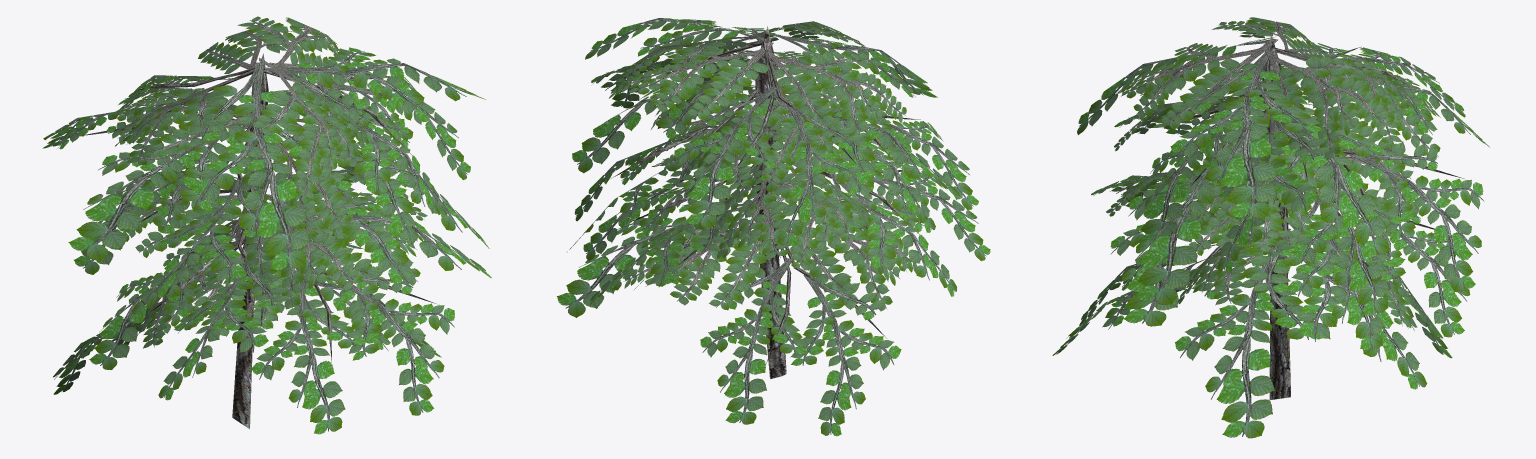
Rendered from Bush_02_v02.obj.
The picture shows the model from 3 angles, left to right: view 1: azimuth 30°, elevation 25°; view 2: azimuth 150°, elevation 25°; view 3: azimuth 270°, elevation 25°; orthographic projection. The views are drawn at different scales.
Visible parts, largest first — view 1: Bush_02_v01:polySurface34; view 2: Bush_02_v01:polySurface34; view 3: Bush_02_v01:polySurface34.
Boxes of the visible parts, bbox=[...] form: Bush_02_v01:polySurface34: bbox=[42, 16, 491, 434]; Bush_02_v01:polySurface34: bbox=[557, 18, 990, 436]; Bush_02_v01:polySurface34: bbox=[1052, 17, 1489, 438].
Bounding box in the file's own units: 41.44 × 34.41 × 40.46.
Materials: 1 (1 with a texture image).
